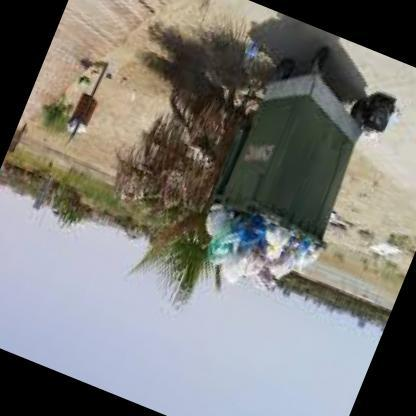Garbage: (188, 202, 322, 312), (358, 83, 403, 140), (233, 235, 270, 278), (206, 216, 240, 260), (268, 247, 298, 280), (258, 223, 292, 252), (245, 39, 265, 67), (64, 116, 76, 132), (76, 126, 86, 136)
